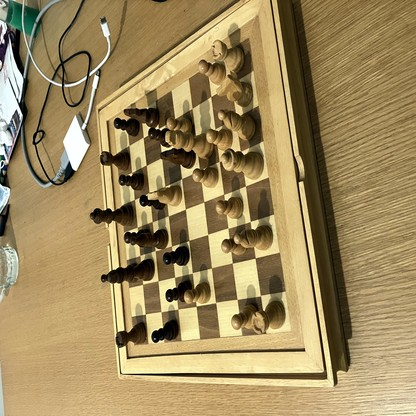bishop_black: (131, 229, 169, 248)
bishop_white: (218, 108, 256, 140), (234, 224, 274, 251)
king_black: (108, 259, 154, 284)
king_white: (164, 132, 214, 158)
knight_black: (160, 150, 196, 168), (124, 109, 159, 126)
knight_white: (215, 75, 253, 105), (147, 186, 182, 205)
pawn_black: (152, 319, 179, 343), (165, 280, 192, 301), (163, 247, 190, 266), (114, 119, 140, 136), (149, 128, 172, 147), (119, 173, 144, 190)
pawn_white: (233, 304, 259, 331), (199, 60, 226, 84), (215, 197, 243, 219), (193, 166, 219, 188), (183, 282, 210, 302), (206, 131, 232, 147), (167, 117, 192, 133), (222, 239, 246, 255)
queen_black: (90, 203, 133, 226)
rock_black: (116, 323, 146, 348), (100, 150, 129, 170)
rock_white: (212, 41, 245, 73), (252, 302, 285, 333)
